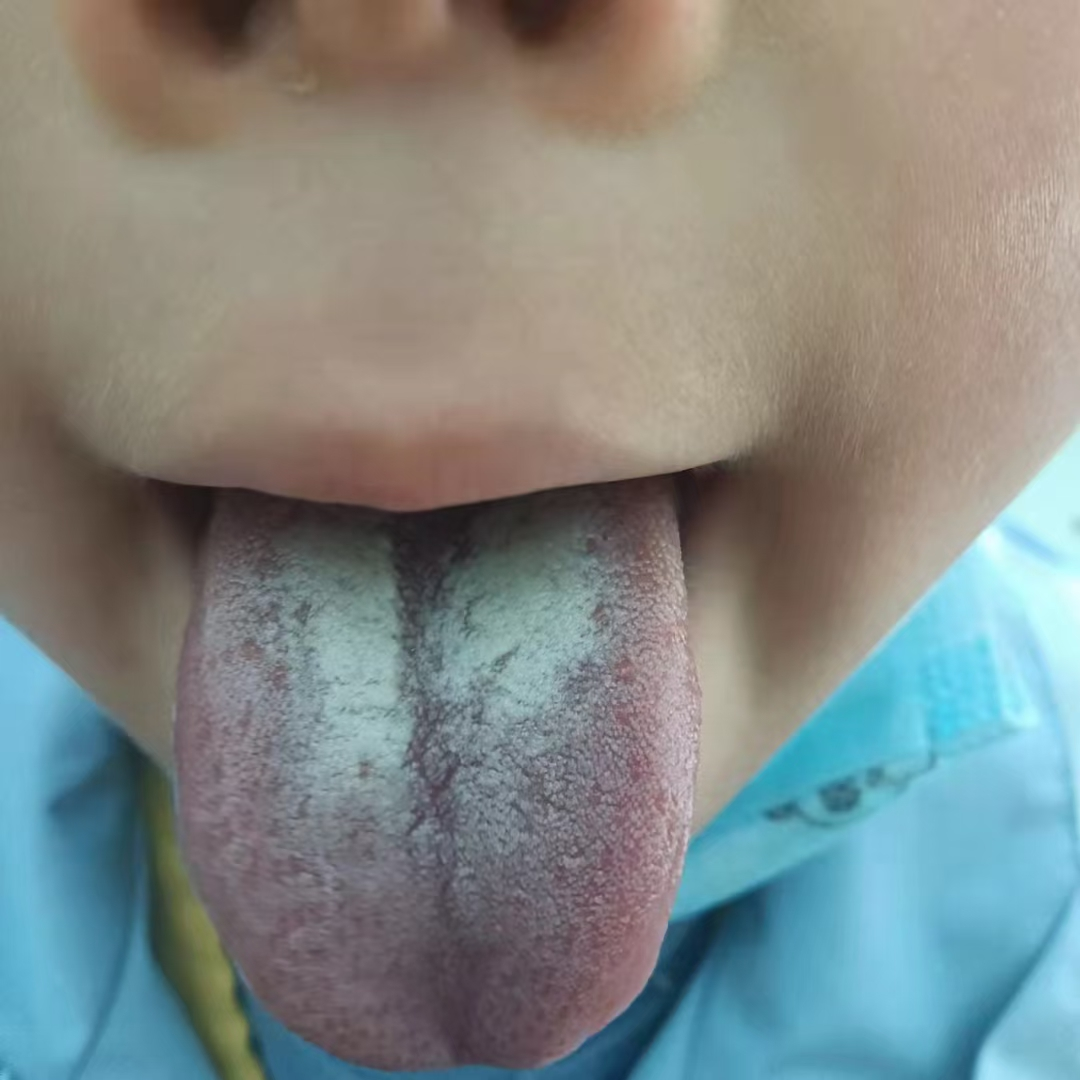baitaishe: (172, 492, 702, 1071)
